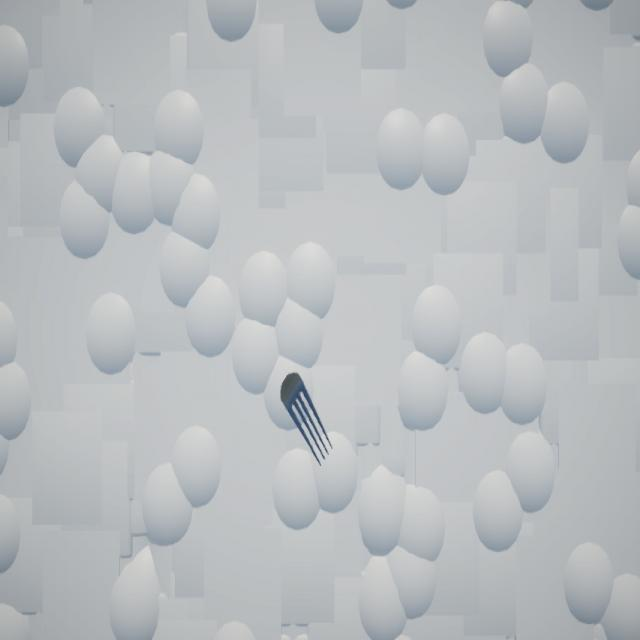top_folk: (281, 374, 334, 468)
